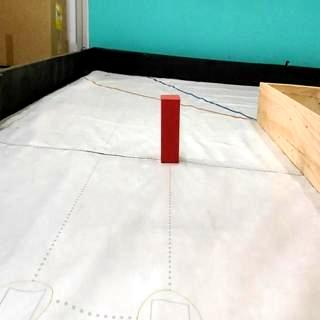redbox: (160, 94, 180, 162)
